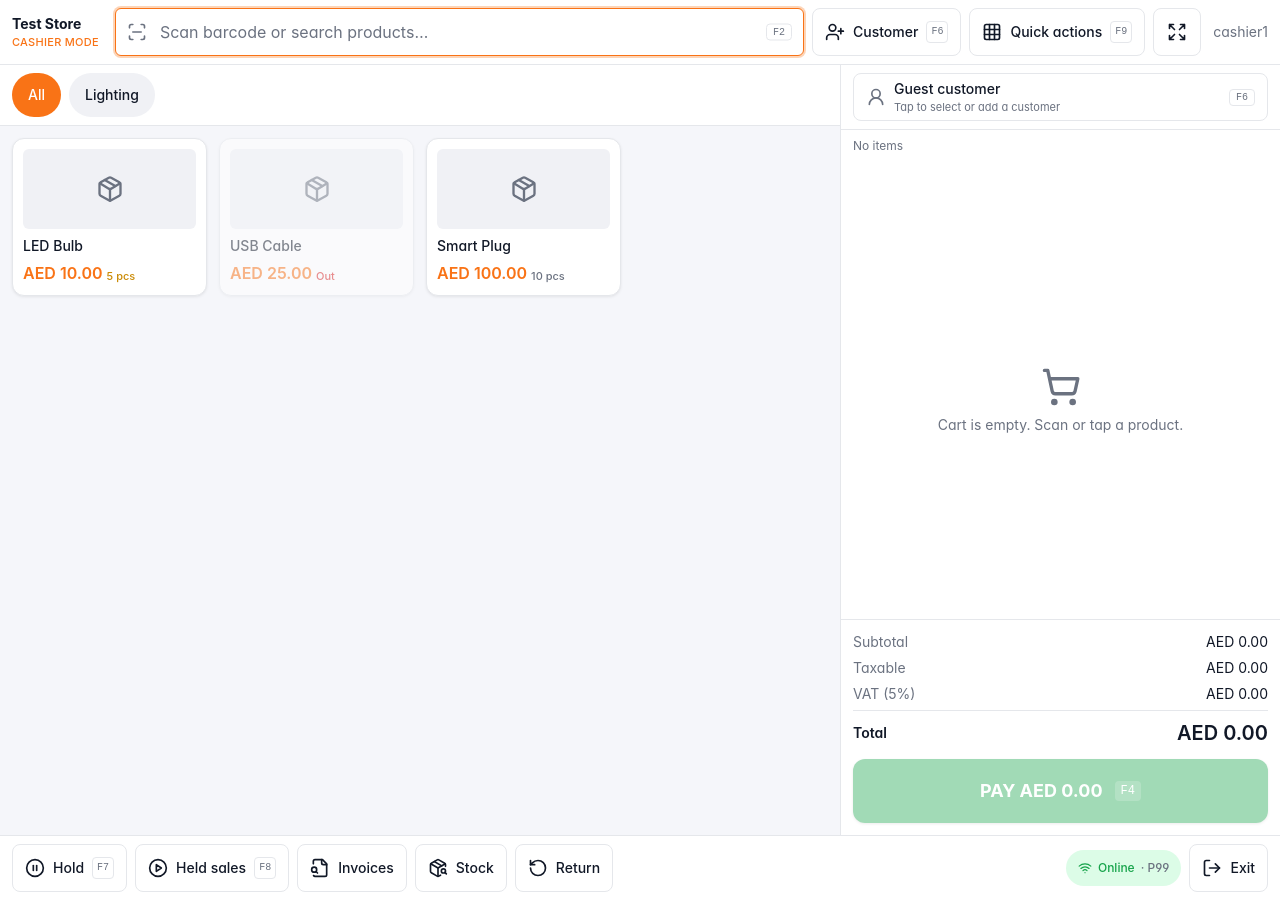
Test: Cashier Mode — products, barcode and cart › offers "create product with this barcode" to users who may create products
This screenshot has width=1280, height=900.
expect the button with aria-label "Add LED Bulb" is shown: met, box [12,138,207,296]
Type "999888777" into the search field with placeholder "Scan barcode or search products…".
click(459, 32); type("999888777")  # box [115,8,804,56]
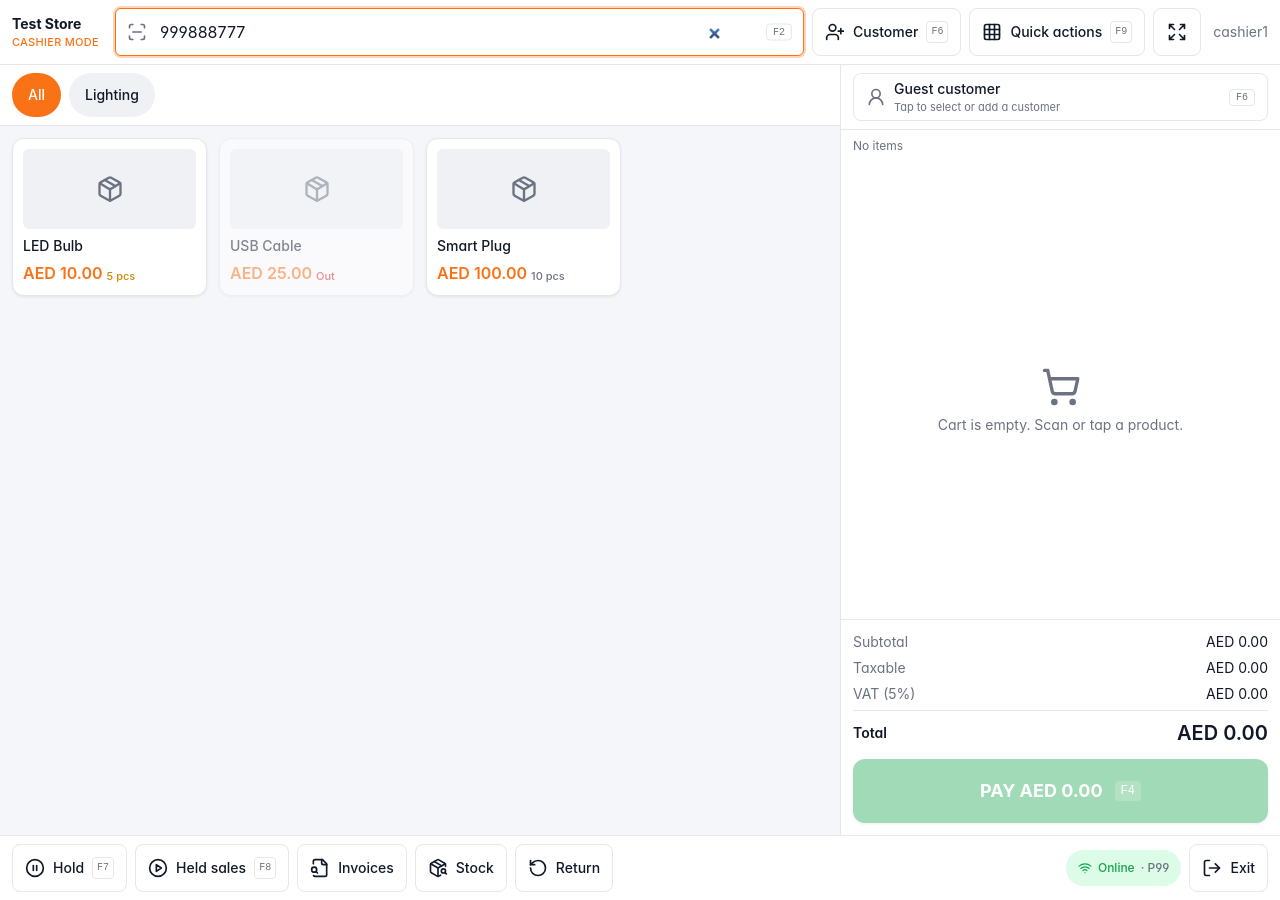
Press Enter in the search field with placeholder "Scan barcode or search products…", box [115,8,804,56]
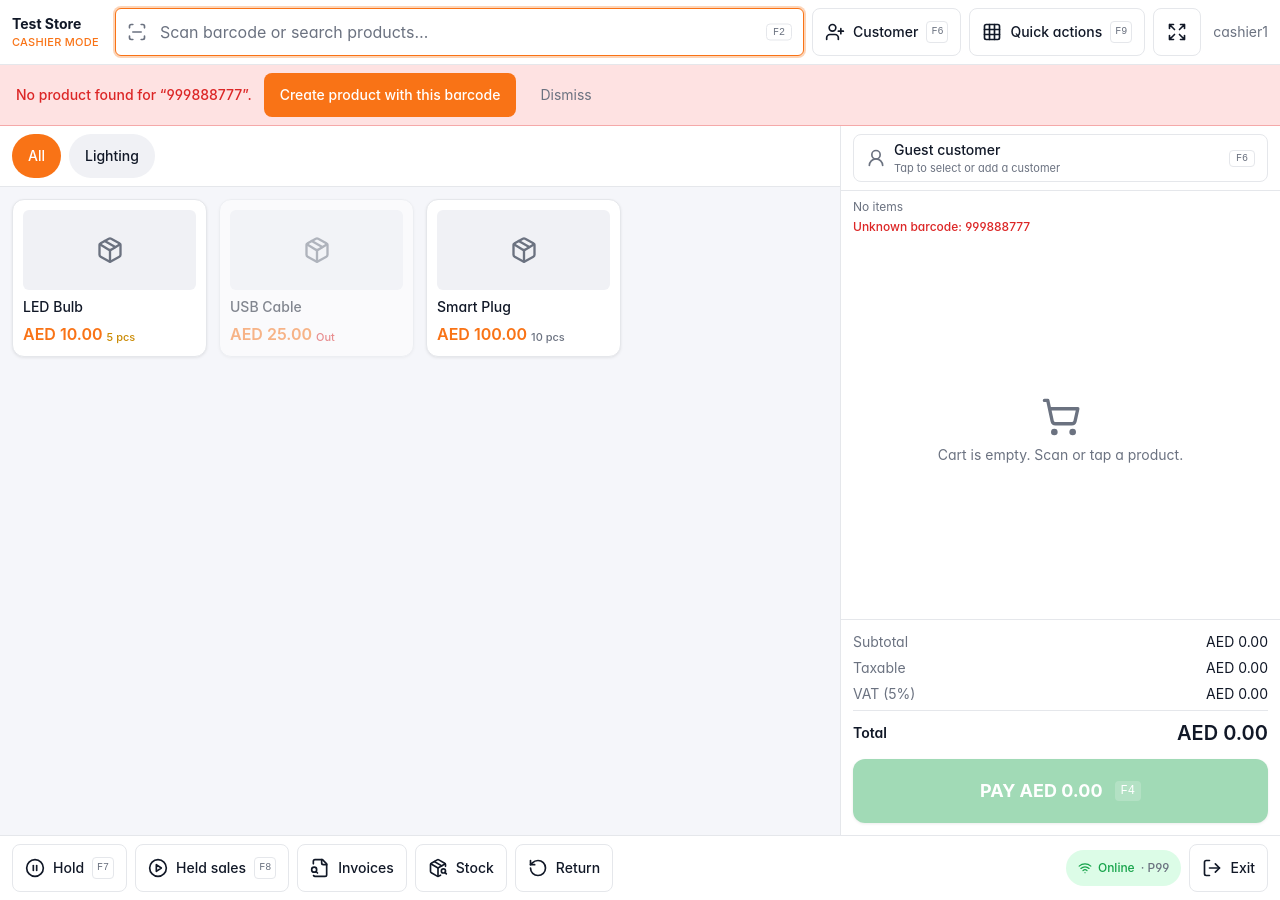
Click the button "Create product with this barcode".
click(390, 95)  # box [264,73,516,117]
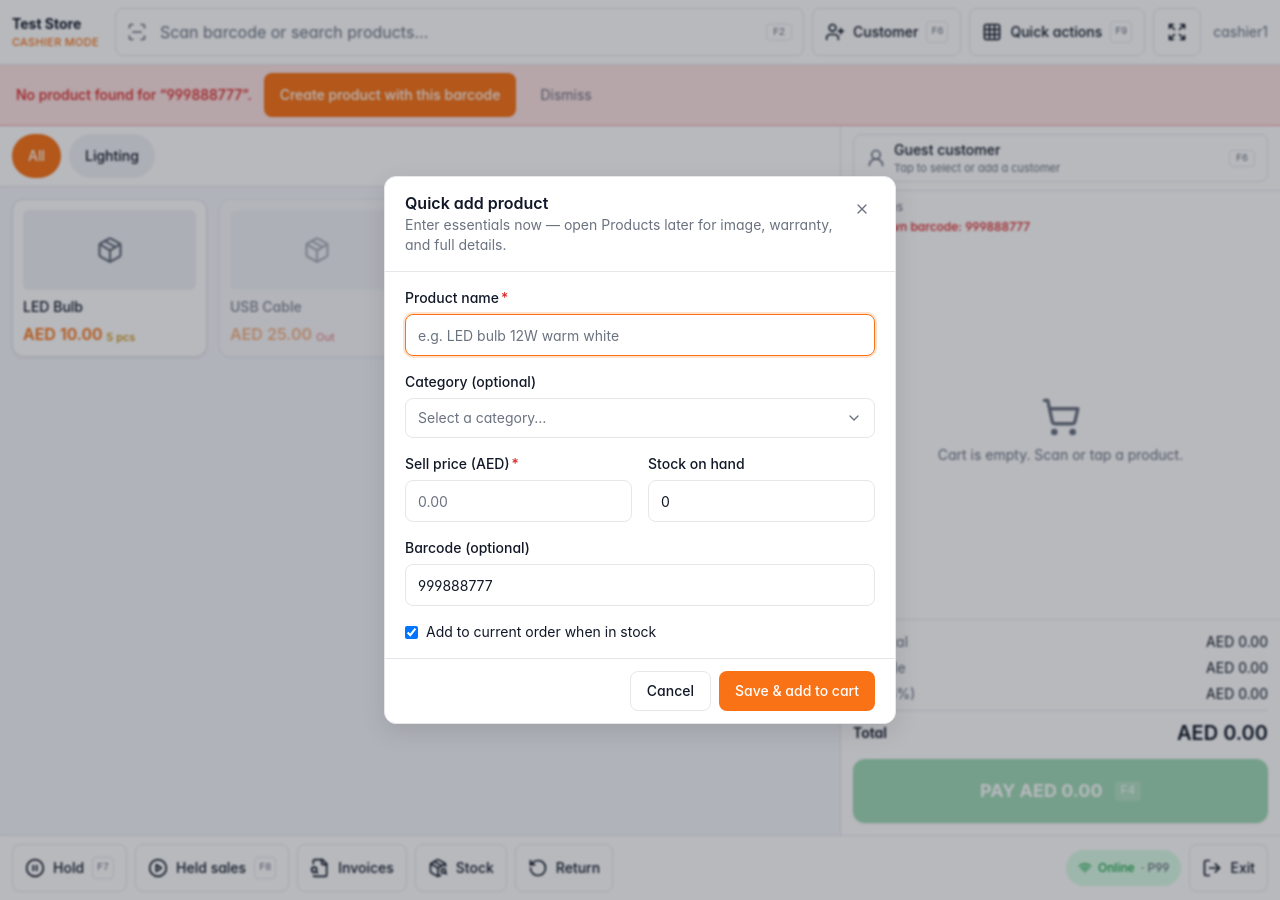
expect the field with placeholder "Scan or type — SKU is auto-generated" holds "999888777": met, box [406,565,874,605]
